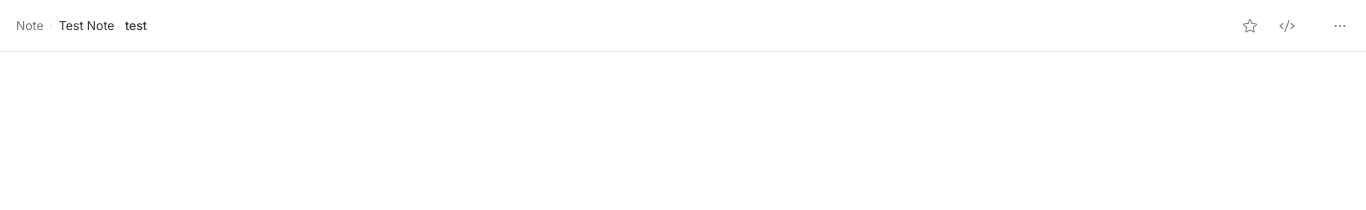
Test: BreadcrumbBar — delete › shows delete in the overflow menu
Press the mouse on the button named "More note actions" at (1340, 26), box left=1329, top=15, right=1350, bottom=36
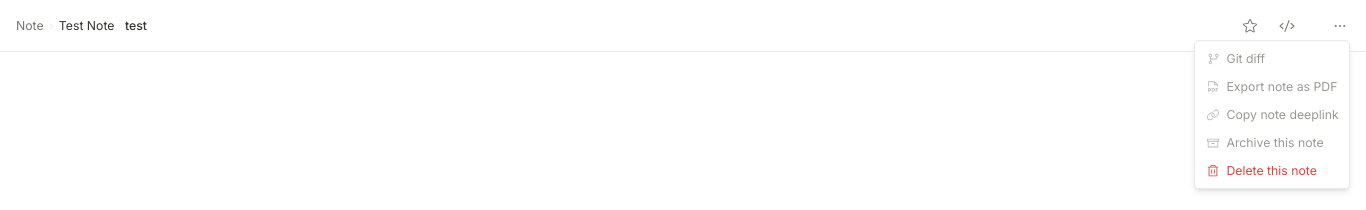
Expected: the menu item "Delete this note" is shown, left=1206, top=163, right=1317, bottom=178
